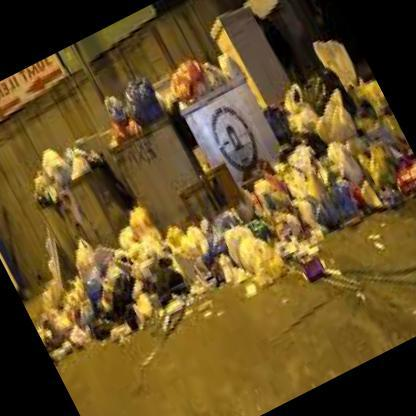Garbage: (268, 38, 402, 197), (275, 82, 415, 230), (195, 169, 332, 306), (22, 254, 146, 372), (122, 220, 228, 326), (87, 66, 176, 145), (158, 34, 243, 108), (21, 128, 101, 194), (105, 197, 169, 268)
